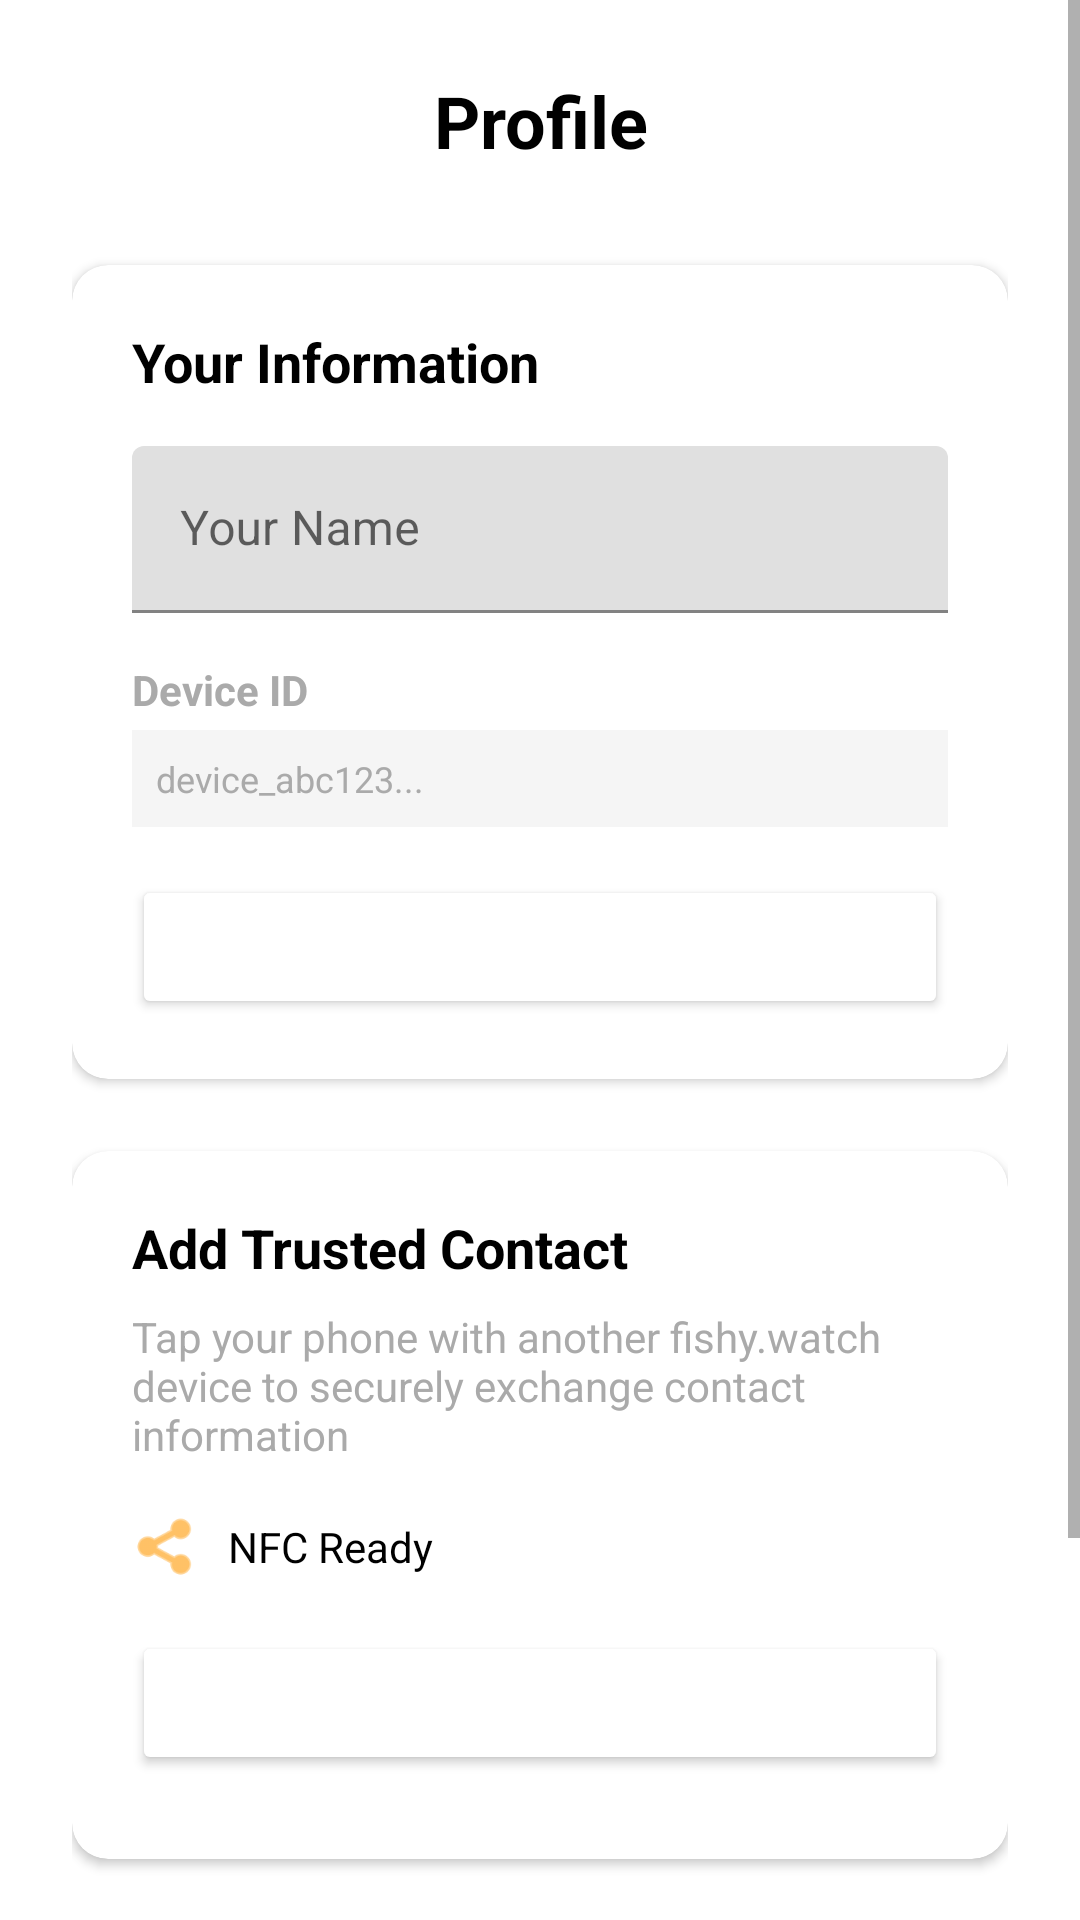

Where icons sit on this 1080w x 1920h app screen, as (x1, y1, x2, y2):
share: (137, 1518, 191, 1575)
